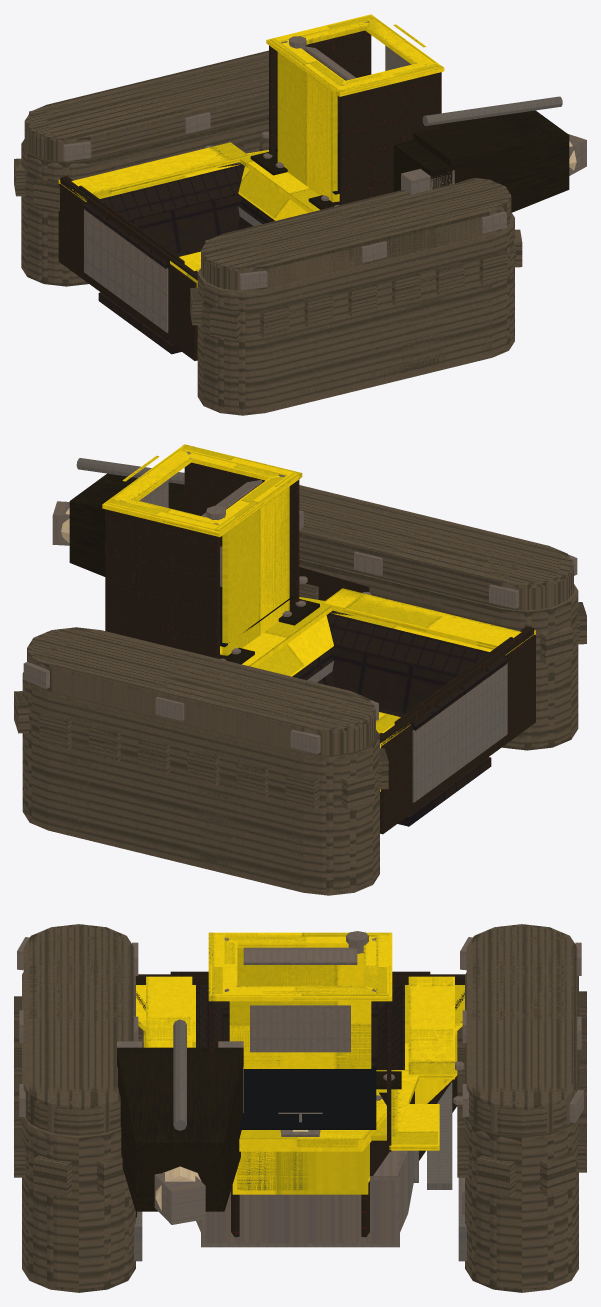
File: place_works_rover.glb
The picture shows the model from 3 angles, top to bottom: view 1: azimuth 30°, elevation 25°; view 2: azimuth 150°, elevation 25°; view 3: azimuth 270°, elevation 25°; orthographic projection. The views are drawn at different scales.
Visible parts, largest first — view 1: LOD0_Merged_Material_Track, LOD1_Merged_Material_Track, LOD1_Merged_Material_Scar, LOD0_Merged_Material_Livery, LOD1_Merged_Material_Livery, LOD0_Merged_Material_Scar, LOD1_Merged_Material_Chevron_Boom, LOD1_Merged_Material_Rubble, LOD1_hopper_lid, LOD0_Merged_Material_Chevron_Boom, track_R, LOD0_Merged_Material_Rubble (+8 smaller); view 2: LOD0_Merged_Material_Track, LOD1_Merged_Material_Track, LOD1_Merged_Material_Scar, LOD0_Merged_Material_Scar, LOD0_Merged_Material_Livery, LOD1_Merged_Material_Livery, LOD1_Merged_Material_Rubble, track_L, hopper_lid, LOD1_track_L, LOD0_Merged_Material_Rubble, LOD1_Merged_Material_Chevron_Boom (+11 smaller); view 3: LOD0_Merged_Material_Track, LOD0_Merged_Material_Livery, LOD1_Merged_Material_Livery, LOD1_Merged_Material_Track, LOD1_Merged_Material_Steel, LOD0_Merged_Material_Steel, LOD1_Merged_Material_Chevron_Boom, LOD0_Merged_Material_Chevron_Boom, LOD0_Merged_Material_Glass, LOD1_Merged_Material_Scar, LOD1_track_L, LOD0_Merged_Material_Steel_Boom (+8 smaller).
Boxes of the visible parts, x1=… form: LOD0_Merged_Material_Track: x1=21, y1=52, x2=513, y2=413; LOD1_Merged_Material_Track: x1=21, y1=50, x2=514, y2=415; LOD1_Merged_Material_Scar: x1=58, y1=30, x2=441, y2=360; LOD0_Merged_Material_Livery: x1=58, y1=15, x2=439, y2=287; LOD1_Merged_Material_Livery: x1=71, y1=14, x2=444, y2=271; LOD0_Merged_Material_Scar: x1=59, y1=35, x2=439, y2=359; LOD1_Merged_Material_Chevron_Boom: x1=393, y1=110, x2=569, y2=212; LOD1_Merged_Material_Rubble: x1=82, y1=164, x2=274, y2=268; LOD1_hopper_lid: x1=84, y1=209, x2=168, y2=332; LOD0_Merged_Material_Chevron_Boom: x1=393, y1=118, x2=563, y2=191; track_R: x1=191, y1=230, x2=516, y2=336; LOD0_Merged_Material_Rubble: x1=87, y1=165, x2=244, y2=267; LOD0_Merged_Material_Track: x1=24, y1=487, x2=577, y2=893; LOD1_Merged_Material_Track: x1=22, y1=485, x2=578, y2=895; LOD1_Merged_Material_Scar: x1=105, y1=462, x2=535, y2=834; LOD0_Merged_Material_Scar: x1=106, y1=463, x2=534, y2=832; LOD0_Merged_Material_Livery: x1=104, y1=445, x2=535, y2=791; LOD1_Merged_Material_Livery: x1=102, y1=444, x2=521, y2=733; LOD1_Merged_Material_Rubble: x1=292, y1=613, x2=508, y2=730; track_L: x1=15, y1=691, x2=387, y2=809; hopper_lid: x1=415, y1=664, x2=506, y2=799; LOD1_track_L: x1=14, y1=691, x2=388, y2=809; LOD0_Merged_Material_Rubble: x1=313, y1=614, x2=508, y2=725; LOD1_Merged_Material_Chevron_Boom: x1=69, y1=473, x2=222, y2=576; LOD0_Merged_Material_Track: x1=22, y1=926, x2=578, y2=1289; LOD0_Merged_Material_Livery: x1=136, y1=933, x2=464, y2=1194; LOD1_Merged_Material_Livery: x1=136, y1=932, x2=464, y2=1190; LOD1_Merged_Material_Track: x1=22, y1=924, x2=578, y2=1292; LOD1_Merged_Material_Steel: x1=17, y1=931, x2=583, y2=1261; LOD0_Merged_Material_Steel: x1=17, y1=931, x2=582, y2=1260; LOD1_Merged_Material_Chevron_Boom: x1=117, y1=1047, x2=243, y2=1211; LOD0_Merged_Material_Chevron_Boom: x1=117, y1=1049, x2=242, y2=1207; LOD0_Merged_Material_Glass: x1=239, y1=1066, x2=375, y2=1129; LOD1_Merged_Material_Scar: x1=136, y1=971, x2=464, y2=1237; LOD1_track_L: x1=457, y1=991, x2=586, y2=1197; LOD0_Merged_Material_Steel_Boom: x1=121, y1=1019, x2=238, y2=1224.
Size of the model in its own units: 1.96 by 1.03 by 1.81.
Materials: 2 (2 with a texture image).
